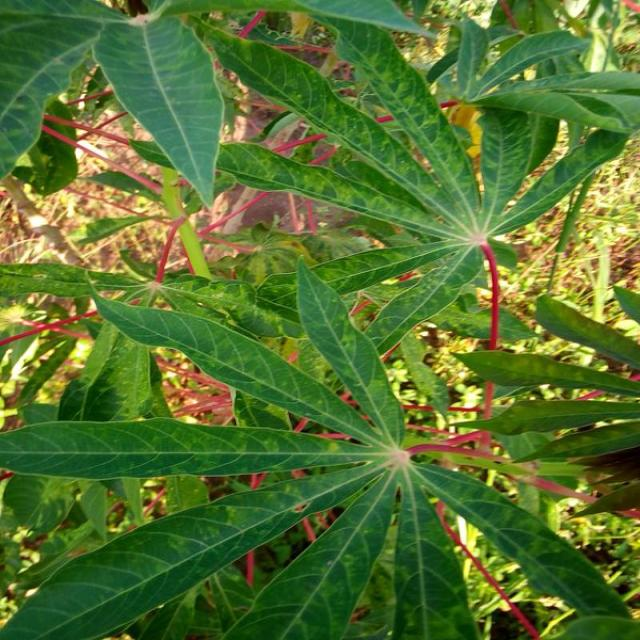cassava leaf: (2, 1, 639, 638), (93, 10, 226, 209)
